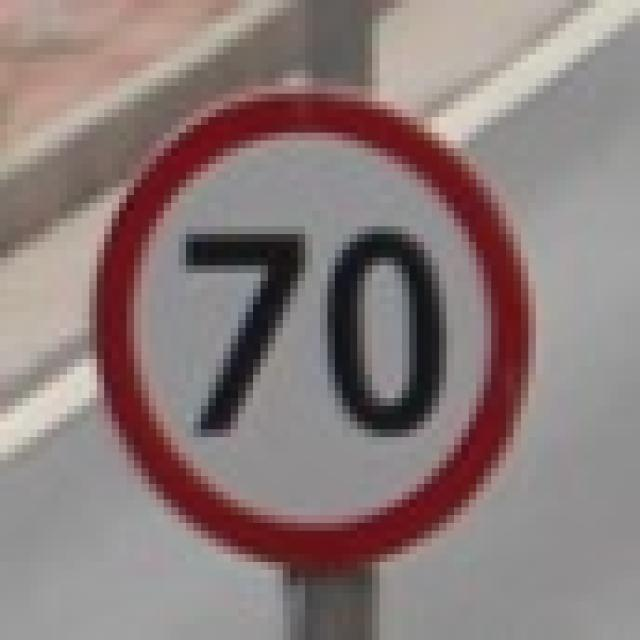Speed Limit -70-: (179, 220, 442, 445)
